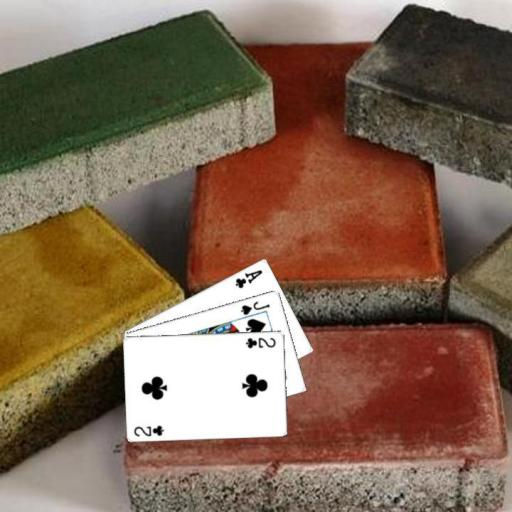2C: (244, 334, 278, 349), (131, 422, 165, 437)
AC: (232, 267, 264, 290)
JS: (238, 298, 272, 316)
